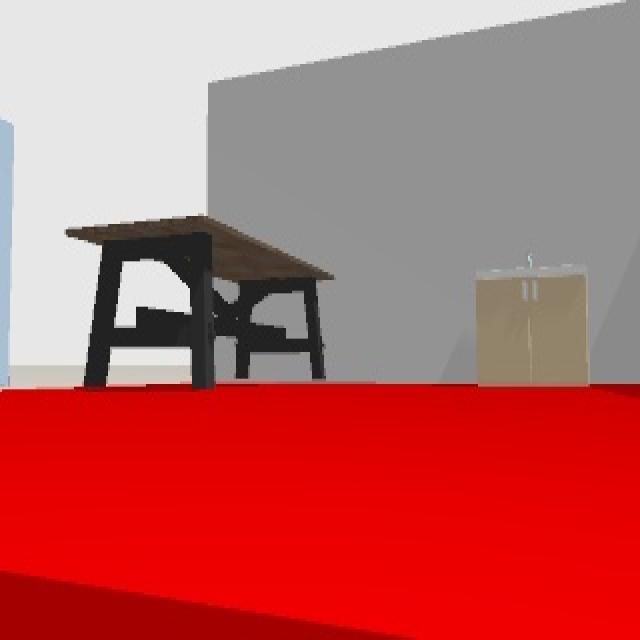dining: (67, 216, 332, 385)
